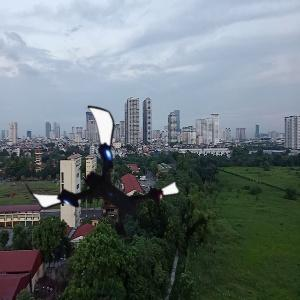drone: (34, 120, 166, 252)
